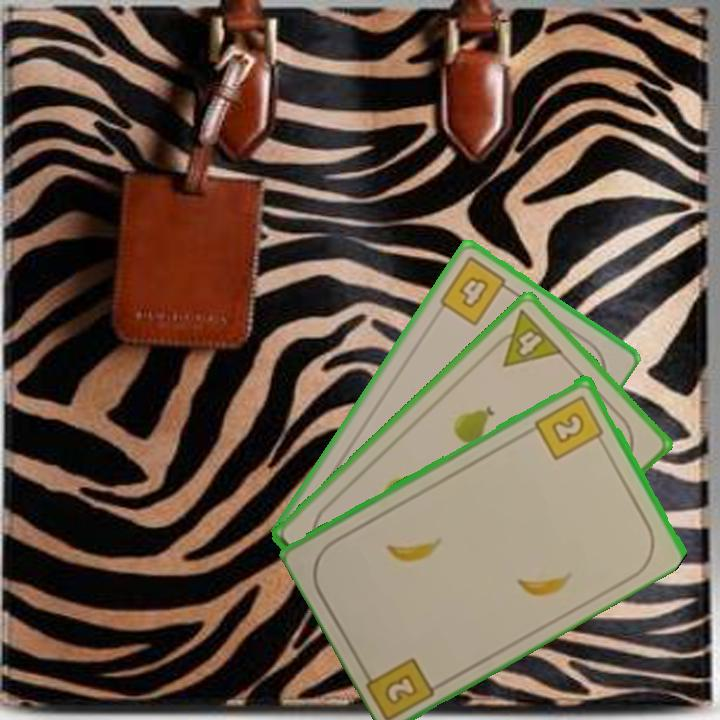2b: (531, 391, 607, 463), (380, 670, 421, 708)
4b: (435, 252, 517, 329)
4p: (485, 306, 566, 370)
